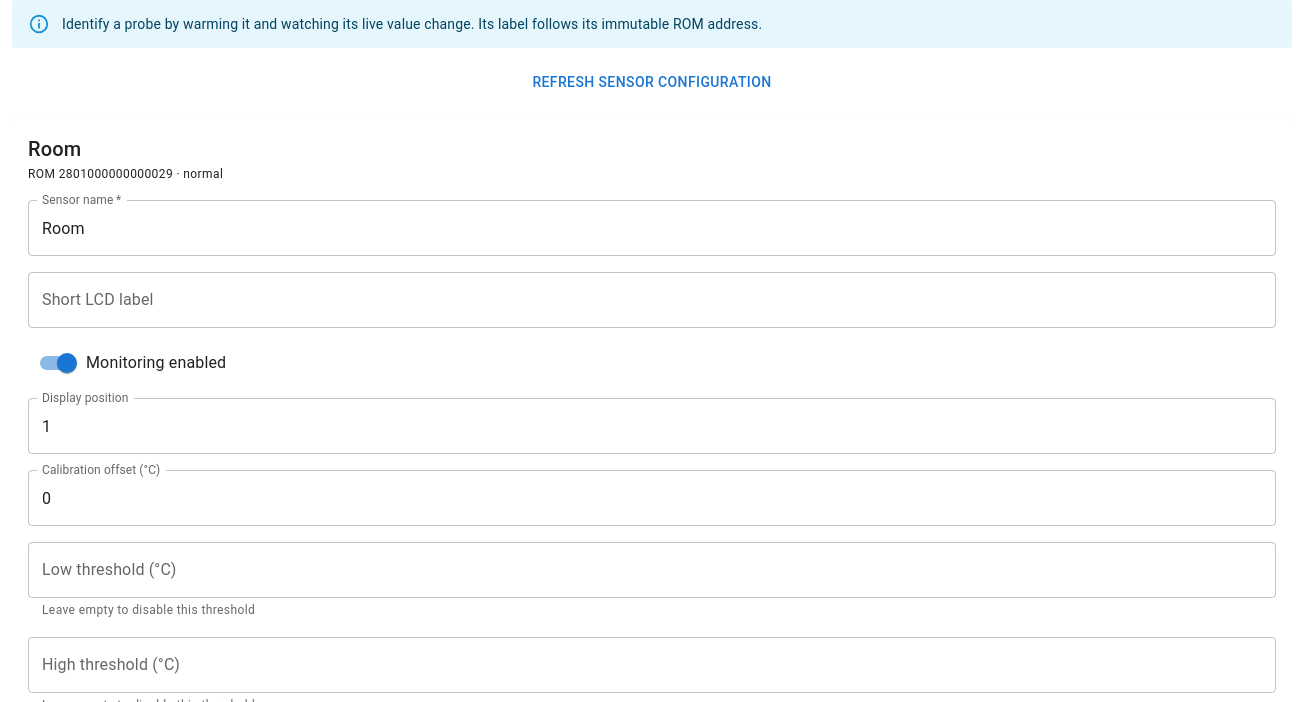
Test: rejects reversed thresholds before sending an update
Check: the field labelled "Sensor name *" is shown, box [28,200,1276,256]
Type "30" into the number field labelled "Low threshold (°C)" at (652, 570), box [28,542,1276,598]
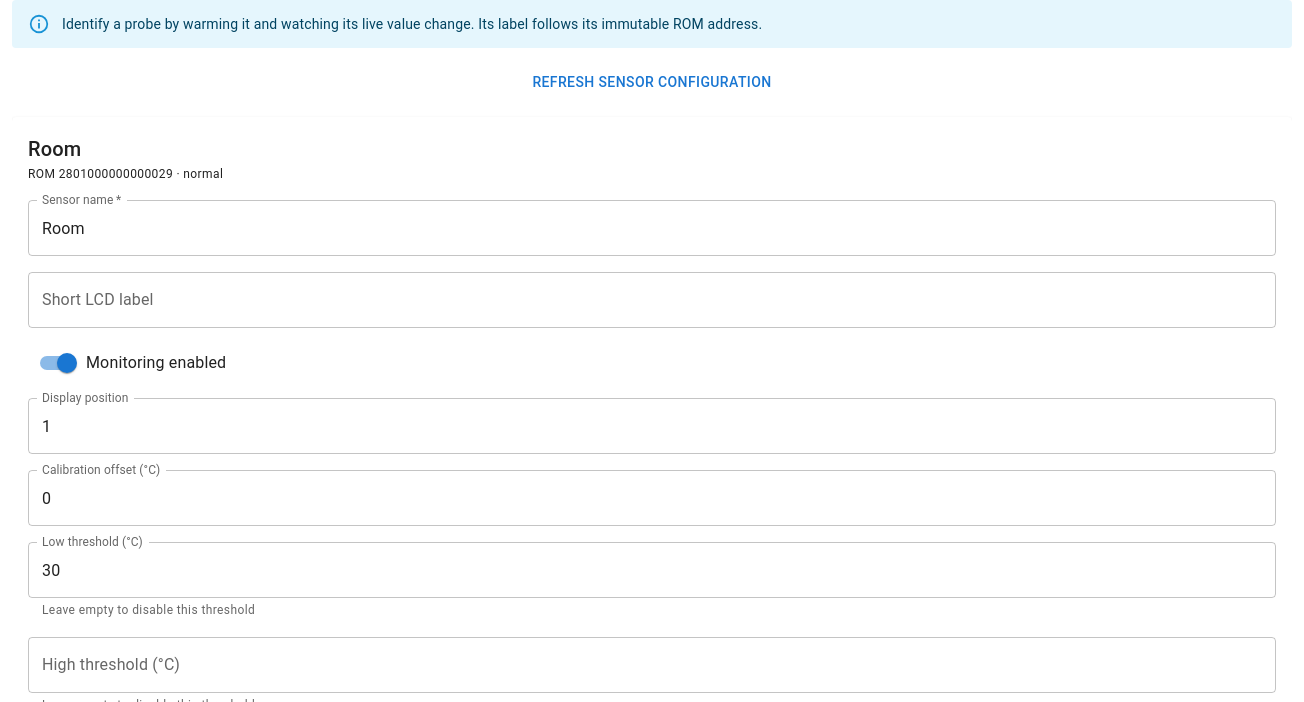
Type "20" into the number field labelled "High threshold (°C)" at (652, 665), box [28,637,1276,693]
(page scrolled)
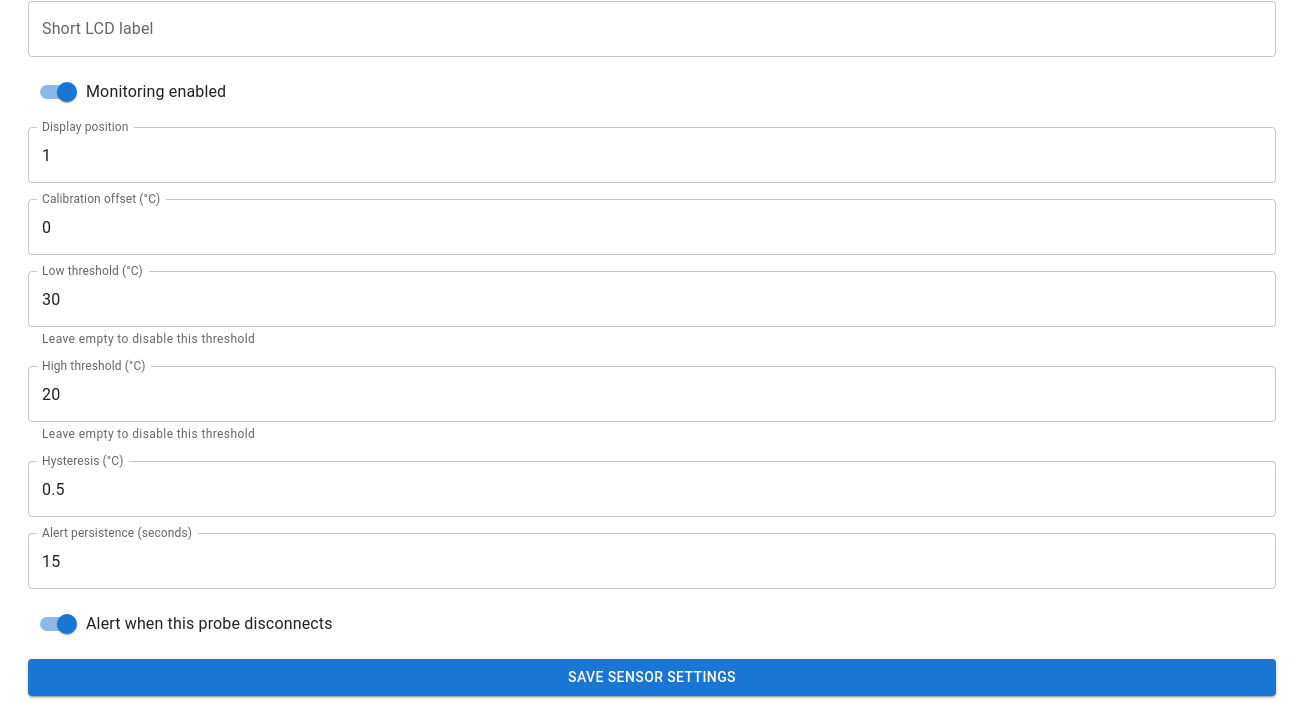
Click the button "Save sensor settings" at (652, 677), box [28,659,1276,696]
(page scrolled)
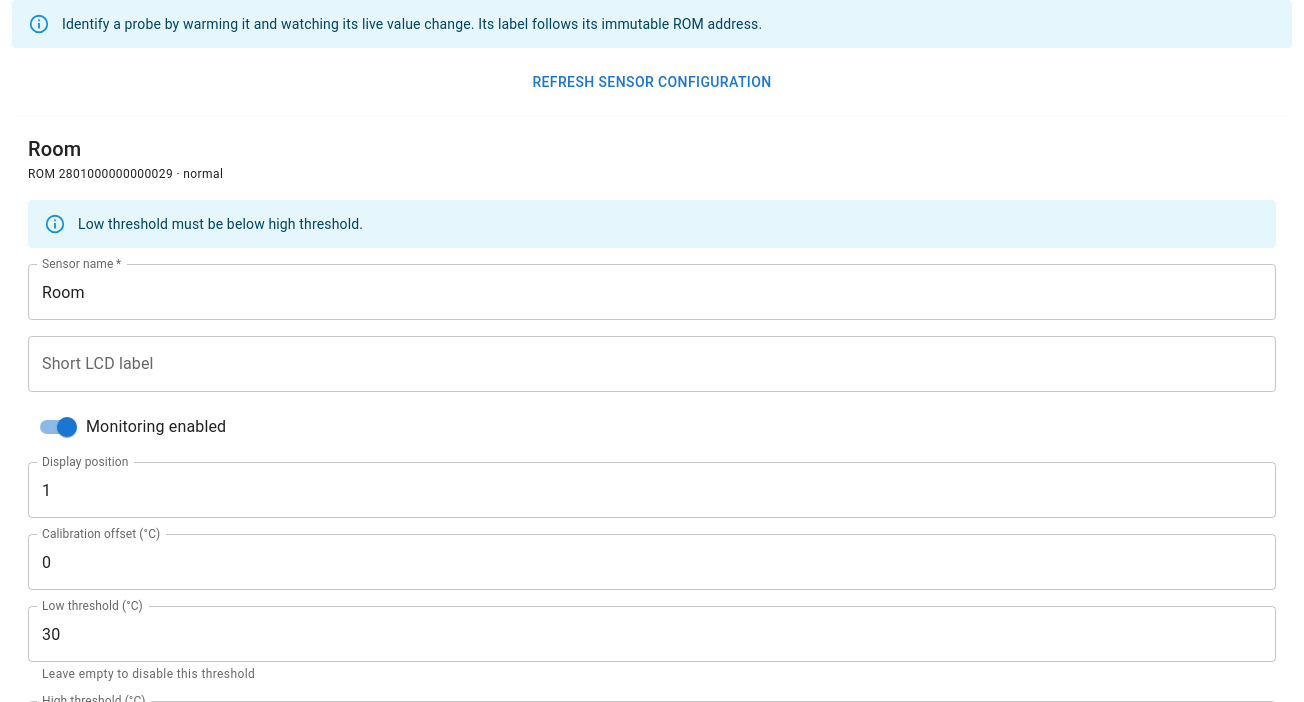
Check: the text "Low threshold must be below high threshold." is shown, box [78,216,363,232]
